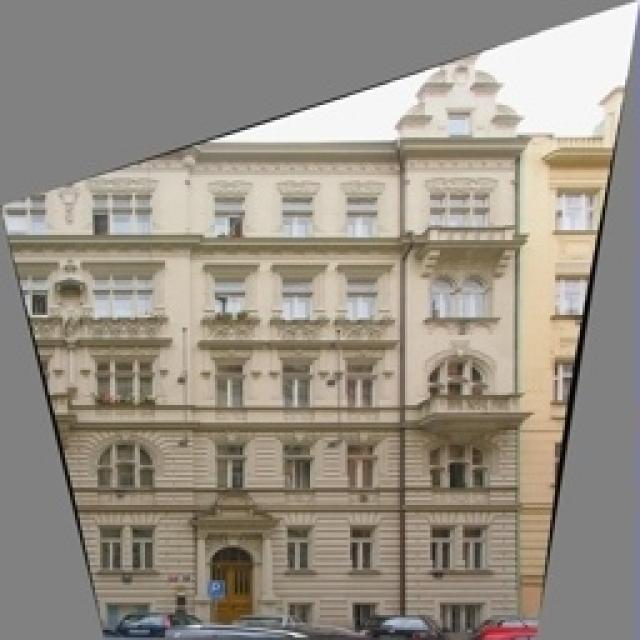building: (0, 65, 525, 633)
